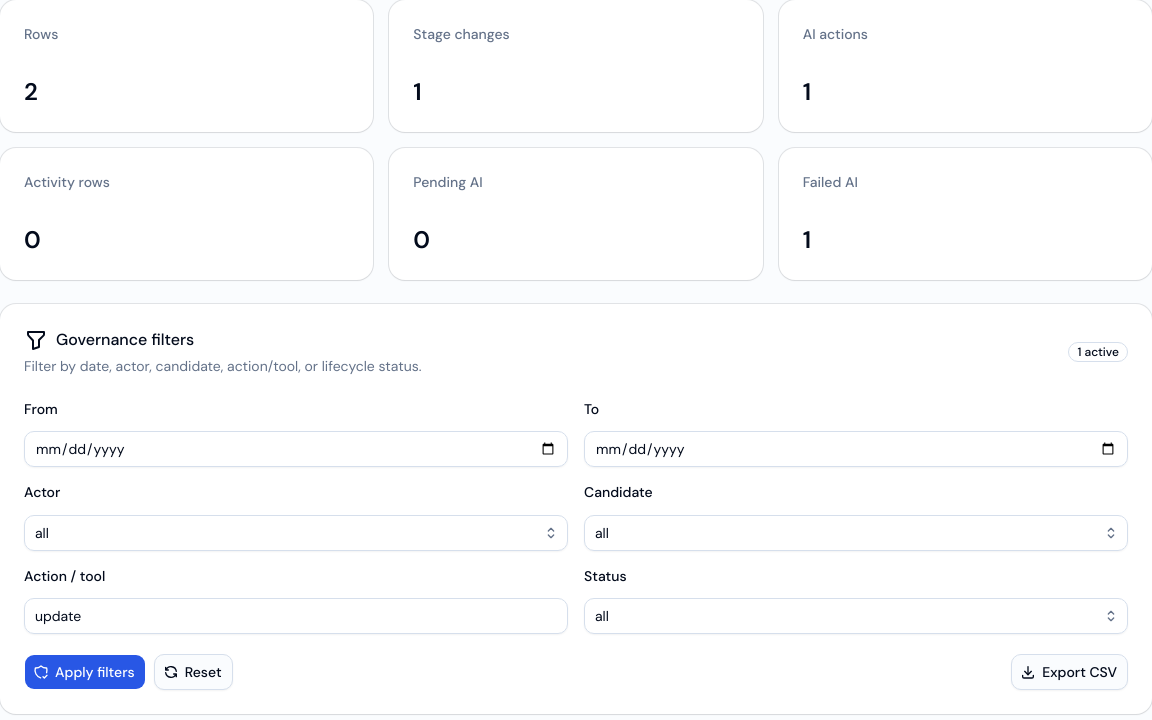
AdminGovernanceClient › clears the visible filter state when reset
Expected: the field labelled "Action / tool" holds "update", [24,598,568,634]
Expected: the icon "1 active" is shown, [1068,342,1128,362]
Click the button "Reset": (193,672) [154,654,233,690]
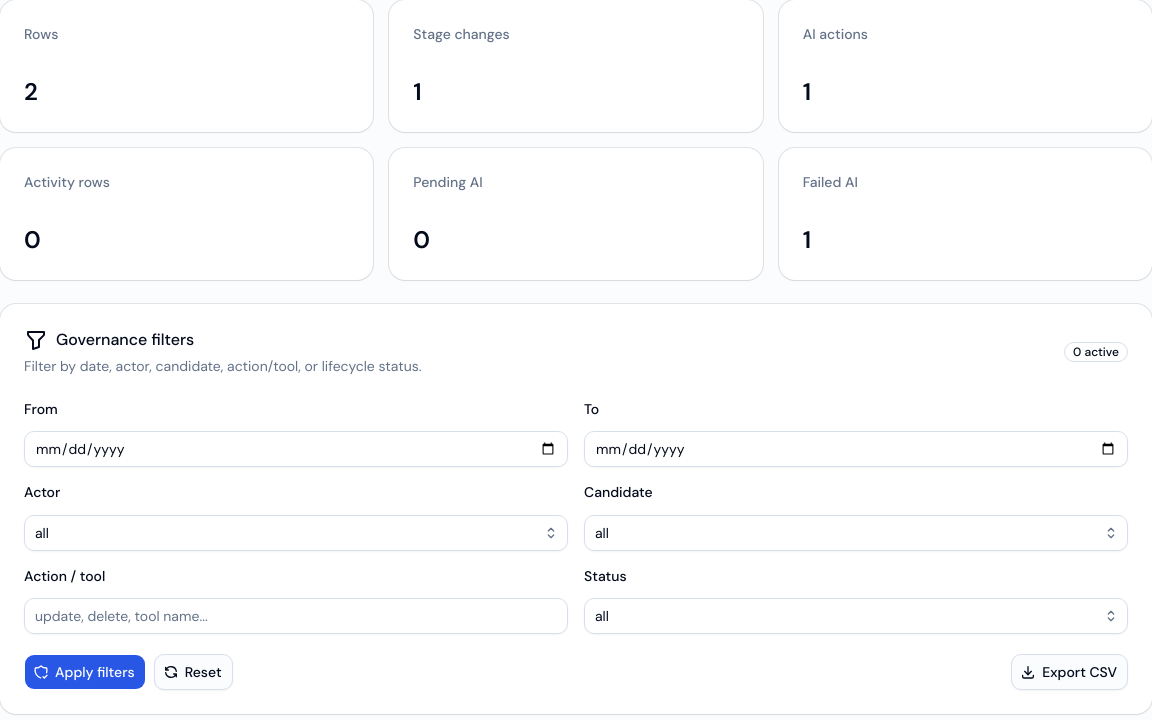
Now the field labelled "Action / tool" is empty, box [24,598,568,634]
Now the text "0 active" is shown, box [1064,342,1128,362]
